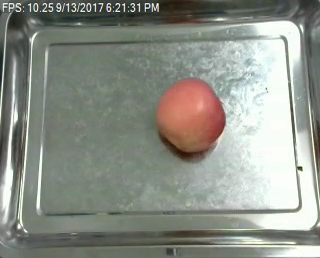Apple: (152, 75, 227, 158)
